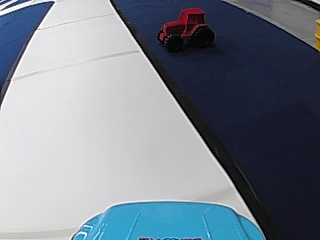tractor: (153, 6, 214, 52)
